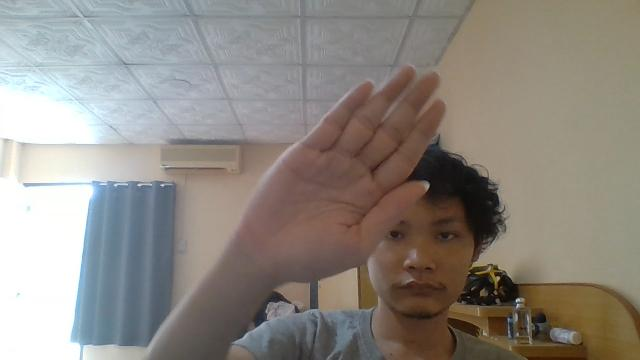Stop: (235, 63, 447, 284)
